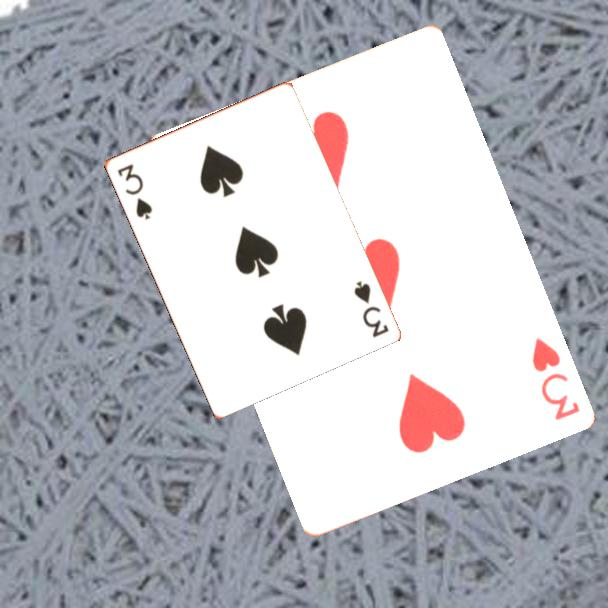h03: (527, 333, 582, 423)
s03: (113, 160, 155, 223), (350, 277, 391, 340)
